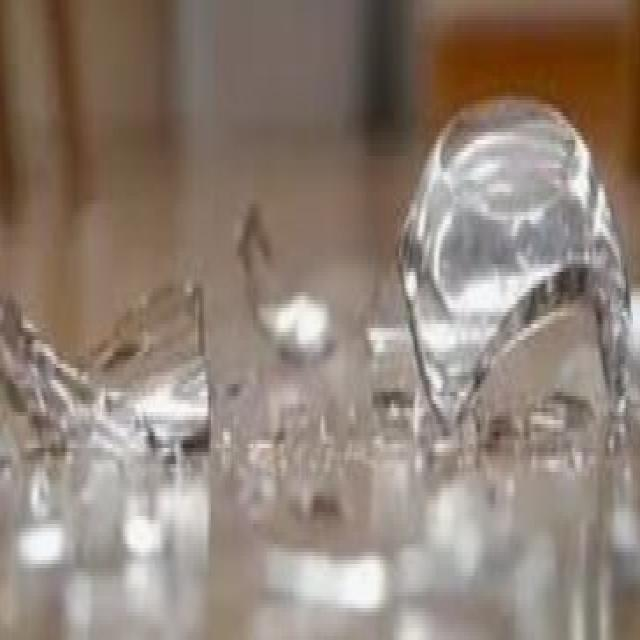electronic: (397, 95, 640, 434), (0, 258, 212, 468)
